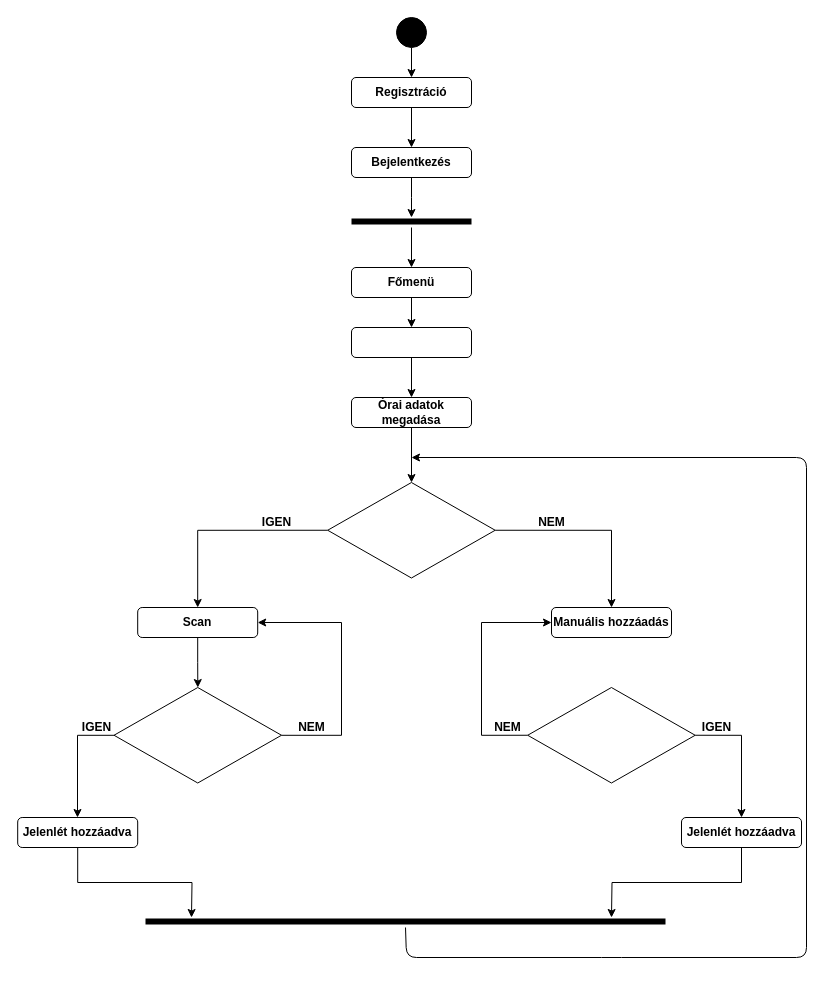
This 832x983 diagram has some shape labels left out. The shapes that lost their labels are listed below. From the top down, each one's box as (x1, y1, x2, y2) in pixels, then its label:
(350, 326, 472, 358): Új jelenélt hozzáadása
(327, 482, 495, 578): Rendelkezik a diák QR azonosítóval
(113, 686, 282, 783): Szkennelt adatok
(527, 686, 695, 783): Bevitt adatok
